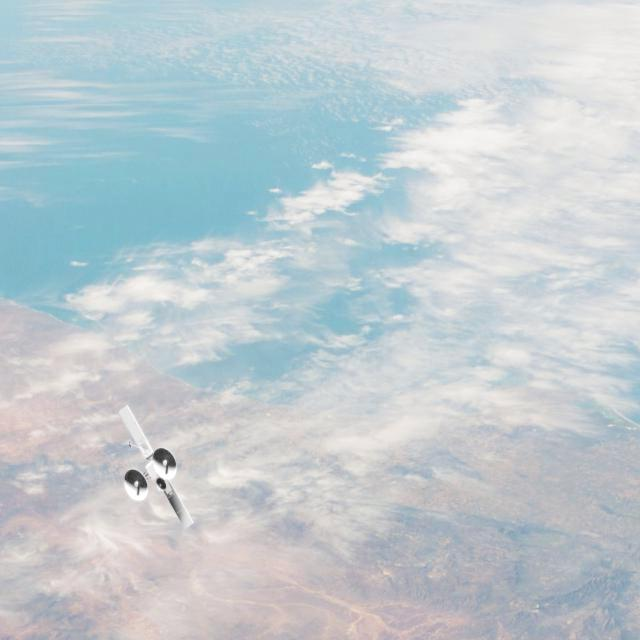medium_debris: (114, 403, 196, 535)
